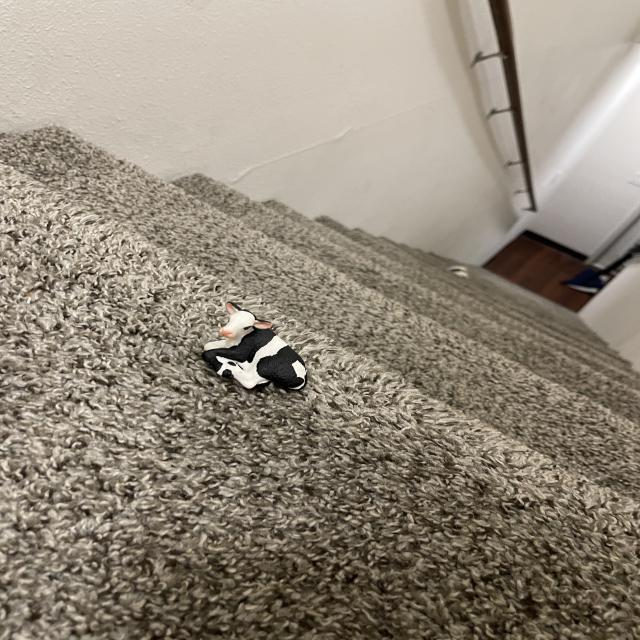cow: (195, 301, 324, 412)
